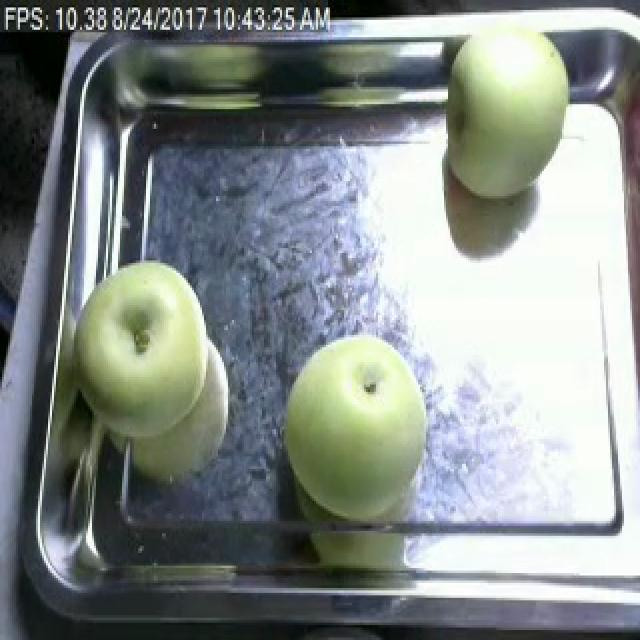50-_ripeness: (70, 228, 214, 457), (281, 329, 438, 520), (448, 15, 566, 204)
